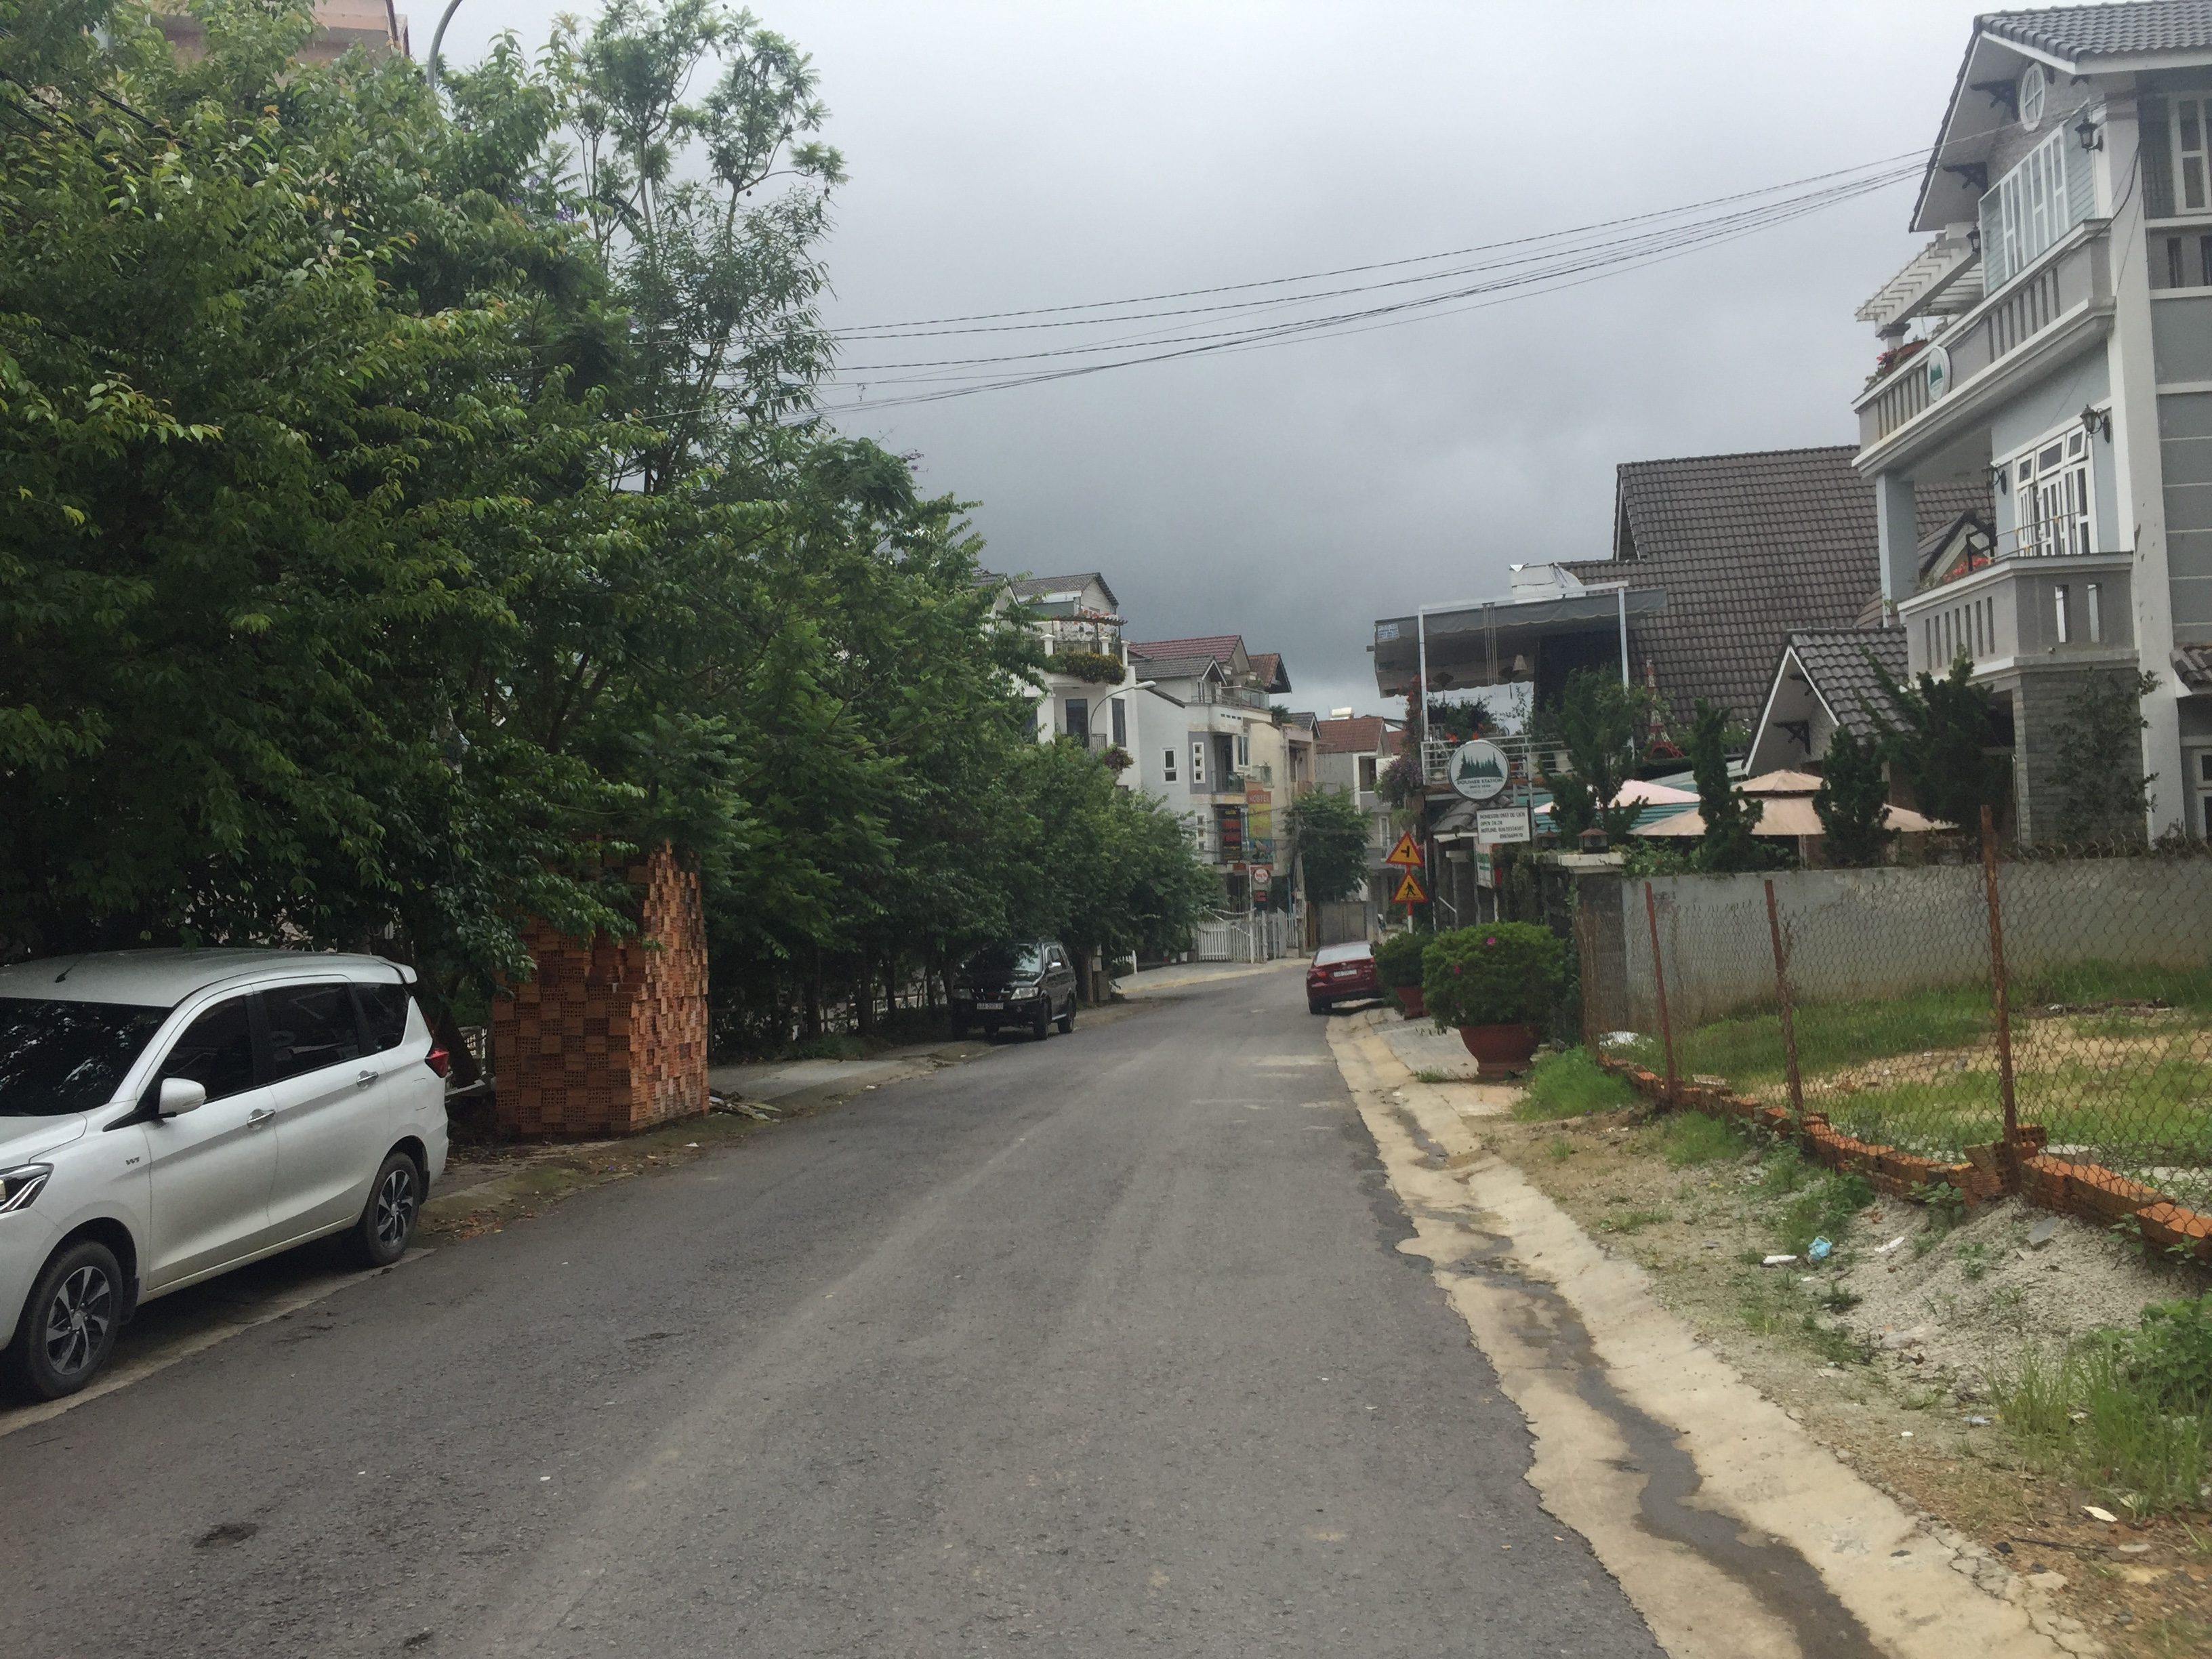hole: (188, 1520, 261, 1553), (404, 1628, 437, 1650), (272, 1335, 314, 1345), (294, 1323, 343, 1330), (280, 1314, 293, 1321)
